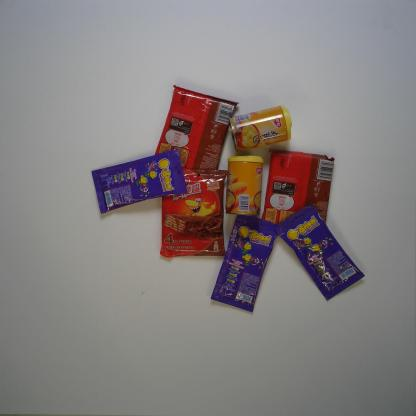Candy: (273, 202, 366, 301), (209, 214, 280, 313), (91, 148, 187, 214)
Canned Food: (229, 105, 292, 152), (224, 155, 264, 216)
Dessert: (154, 84, 239, 171), (159, 169, 229, 258), (261, 149, 335, 226)
